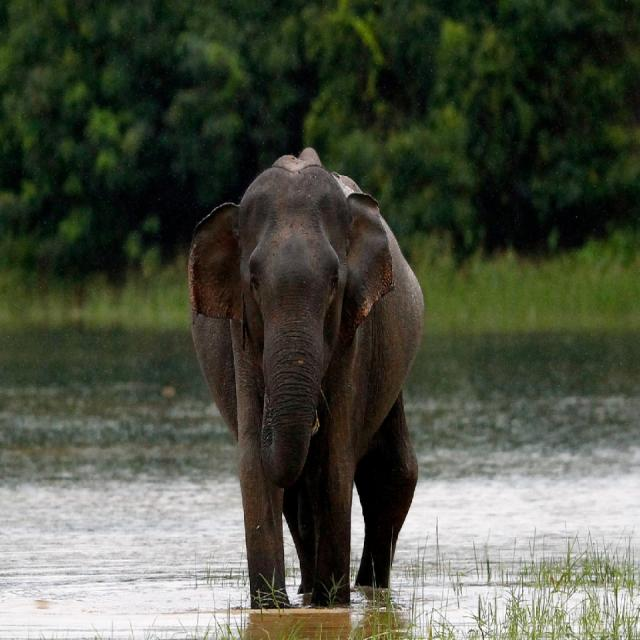Elephant: (181, 144, 432, 622)
